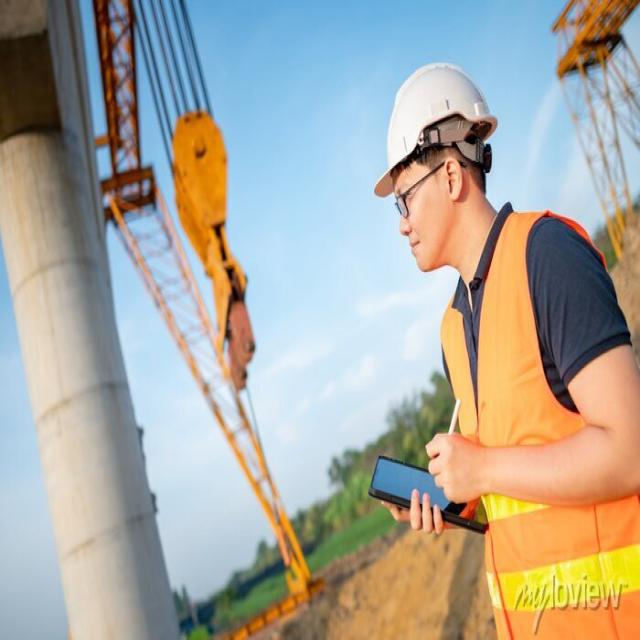helmet: (372, 61, 499, 199)
no-goggles: (387, 162, 452, 222)
vest: (435, 207, 640, 639)
